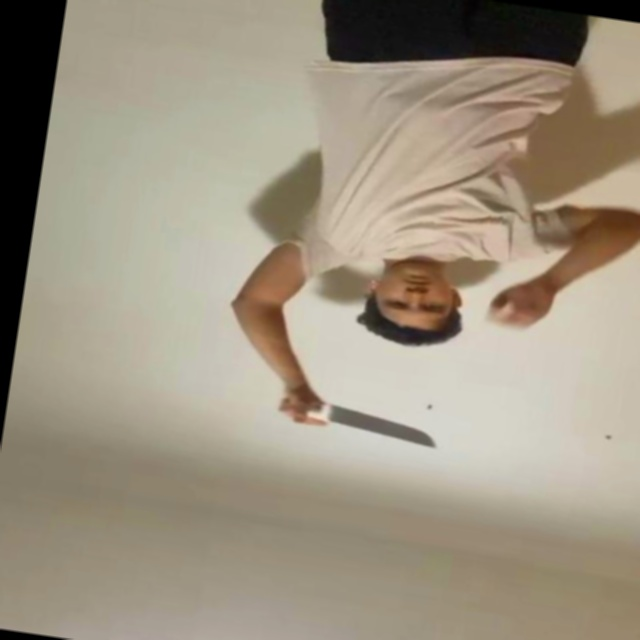Sharp-Object: (321, 405, 443, 452)
